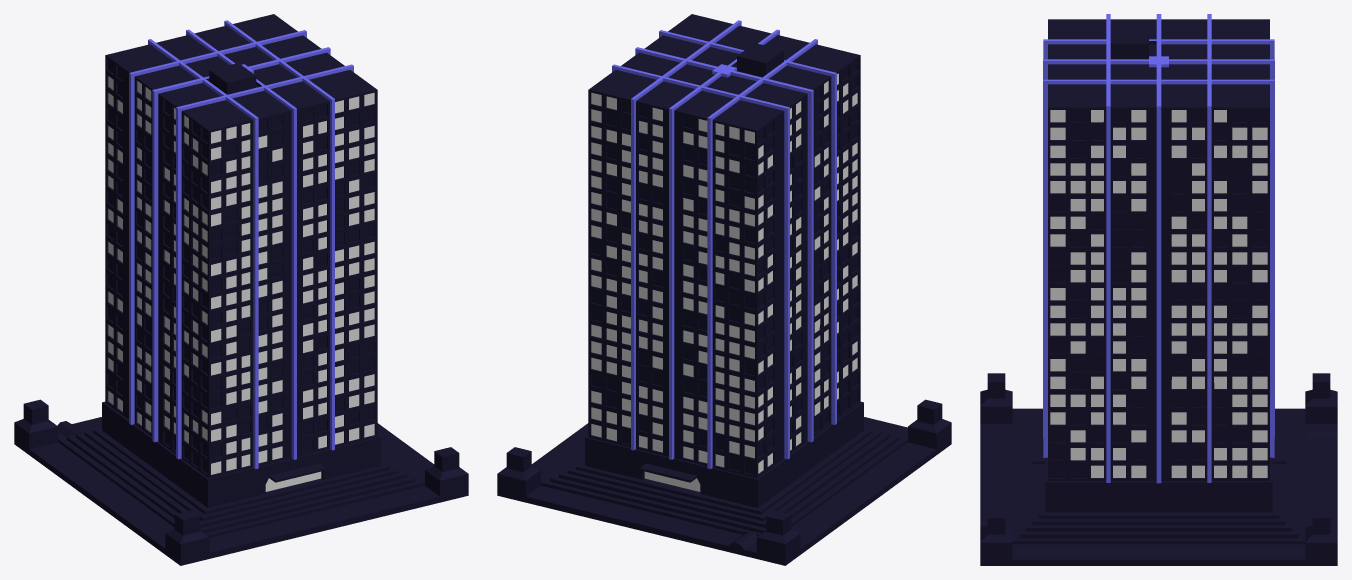
Rendered from Delux.fbx.
3 renders of one model, left to right at view 1: azimuth 30°, elevation 25°; view 2: azimuth 150°, elevation 25°; view 3: azimuth 270°, elevation 25°, orthographic. The views are drawn at different scales.
Visible parts, largest first — view 1: ExternalBase, ExternalMid, ExternalRoof002, ExternalMid_cell.043, ExternalMid_cell.005, ExternalBase_cell.007, ExternalMid_cell.017, ExternalMid_cell.027, ExternalMid_cell.001, ExternalMid_cell.019, ExternalMid_cell.028, ExternalMid_cell.033 (+23 smaller); view 2: ExternalMid, ExternalBase, ExternalRoof002, ExternalBase_cell.002, ExternalBase_cell.007, ExternalMid_cell.027, ExternalMid_cell.019, ExternalMid_cell.001, ExternalRoof002_cell.015, ExternalRoof002_cell.005, ExternalRoof002_cell.018, ExternalMid_cell.009 (+9 smaller); view 3: ExternalMid, ExternalBase, ExternalBase_cell.008, ExternalRoof002, ExternalMid_cell.011, ExternalBase_cell.002, ExternalMid_cell, ExternalMid_cell.017, ExternalRoof002_cell.005, ExternalMid_cell.043, ExternalMid_cell.008, ExternalRoof002_cell.015 (+13 smaller).
Part boxes in pixels (box(x1,y1,x2,y2)): ExternalBase: box(14, 402, 468, 565); ExternalMid: box(105, 72, 377, 478); ExternalRoof002: box(107, 21, 377, 147); ExternalMid_cell.043: box(297, 109, 377, 280); ExternalMid_cell.005: box(196, 120, 319, 263); ExternalBase_cell.007: box(29, 410, 196, 525); ExternalMid_cell.017: box(299, 244, 377, 368); ExternalMid_cell.027: box(116, 355, 198, 470); ExternalMid_cell.001: box(121, 96, 197, 217); ExternalMid_cell.019: box(105, 210, 173, 358); ExternalMid_cell.028: box(224, 329, 324, 431); ExternalMid_cell.033: box(178, 315, 258, 432); ExternalMid: box(588, 75, 860, 478); ExternalBase: box(497, 399, 951, 565); ExternalRoof002: box(588, 14, 860, 147); ExternalBase_cell.002: box(497, 445, 763, 560); ExternalBase_cell.007: box(748, 411, 904, 565); ExternalMid_cell.027: box(767, 343, 850, 469); ExternalMid_cell.019: box(757, 239, 823, 353); ExternalMid_cell.001: box(770, 110, 849, 239); ExternalRoof002_cell.015: box(708, 66, 833, 120); ExternalRoof002_cell.005: box(623, 30, 735, 80); ExternalRoof002_cell.018: box(604, 75, 705, 129); ExternalMid_cell.009: box(730, 199, 789, 299); ExternalMid: box(1043, 83, 1274, 483); ExternalBase: box(980, 373, 1337, 565); ExternalBase_cell.008: box(1017, 472, 1303, 565); ExternalRoof002: box(1043, 19, 1274, 127); ExternalMid_cell.011: box(1137, 125, 1269, 234); ExternalBase_cell.002: box(1270, 425, 1337, 565); ExternalMid_cell: box(1048, 125, 1152, 211); ExternalMid_cell.017: box(1043, 264, 1124, 365); ExternalRoof002_cell.005: box(1079, 73, 1216, 127); ExternalMid_cell.043: box(1043, 102, 1091, 272); ExternalMid_cell.008: box(1148, 304, 1269, 392); ExternalRoof002_cell.015: box(1098, 14, 1238, 53).
Size of the model in its own units: 800 by 1094 by 800.
